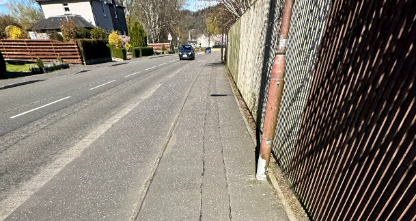car: (176, 41, 198, 61), (204, 47, 212, 54)
tree: (127, 18, 148, 46), (108, 29, 122, 46)
